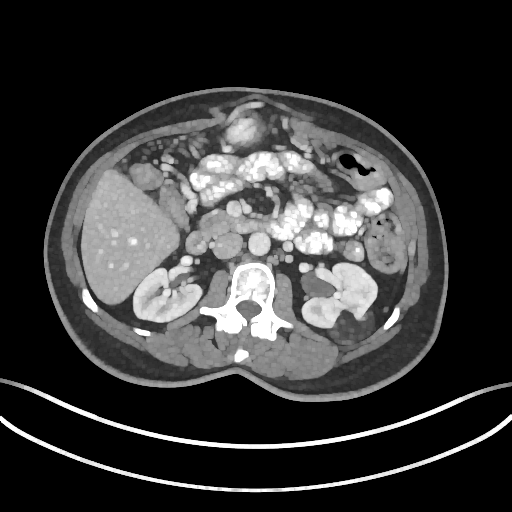Lesion: (330, 308, 377, 346)
